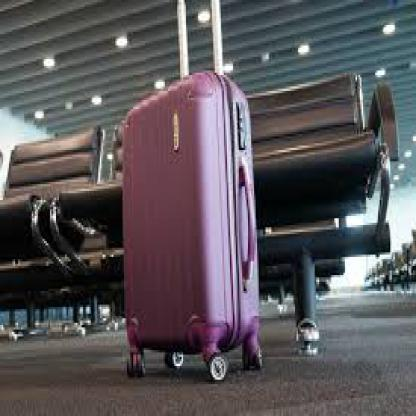maleta: (106, 55, 275, 400)
